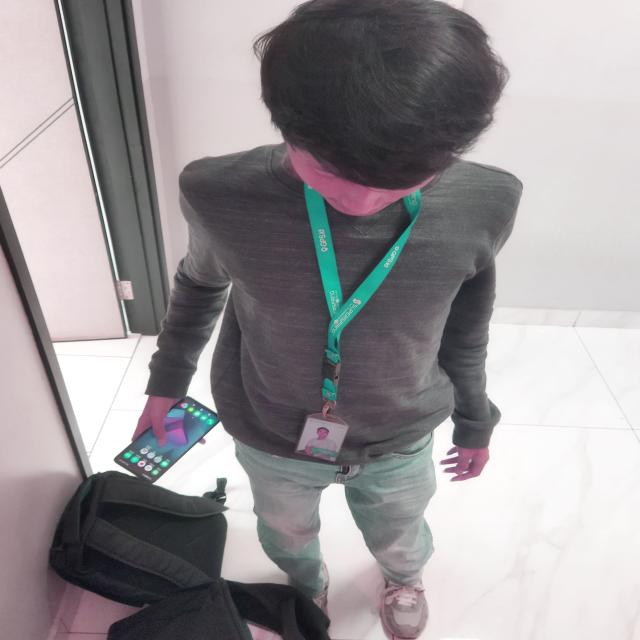ID_card: (294, 412, 349, 463)
